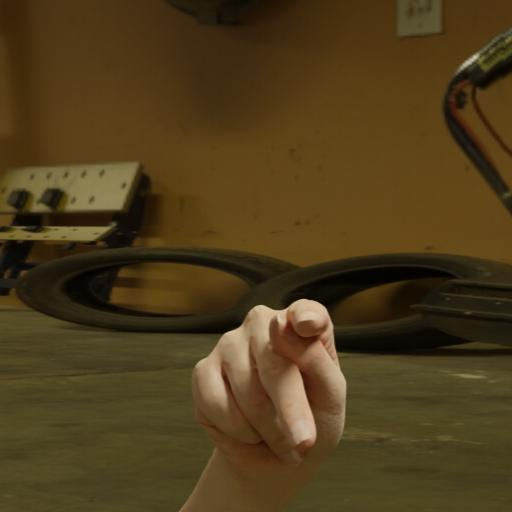P: (184, 289, 370, 483)
